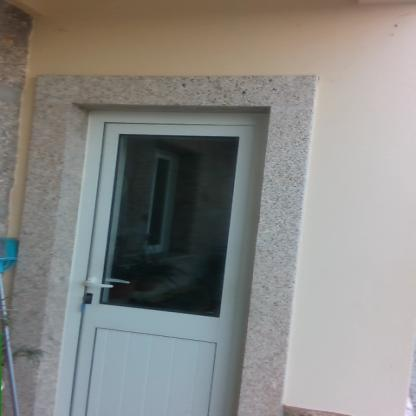closed: (51, 103, 278, 415)
